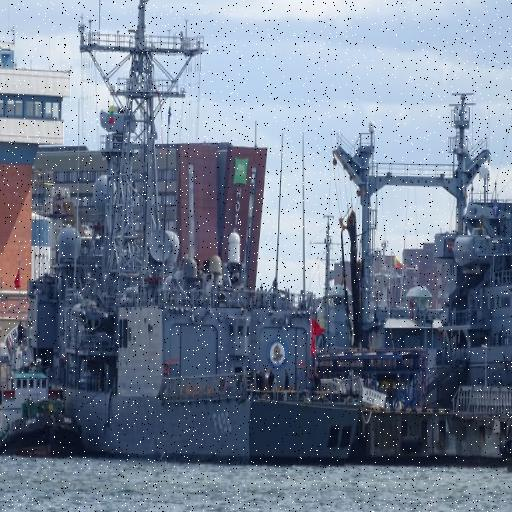Fragata: (35, 30, 369, 470)
